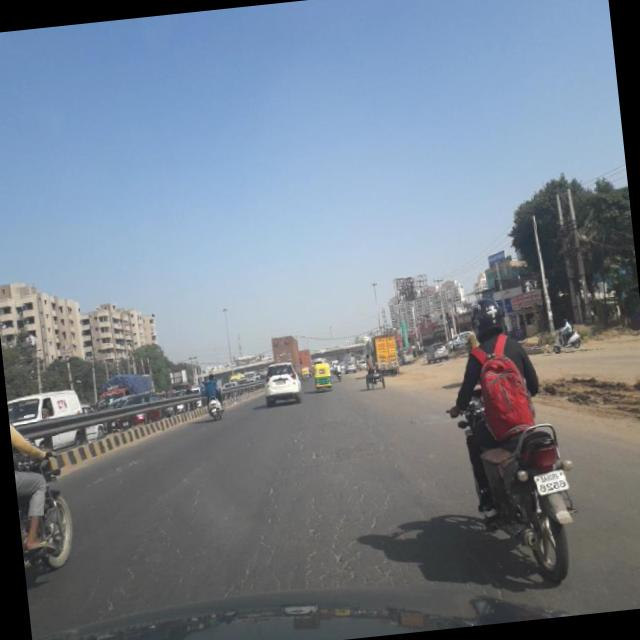crack: (212, 398, 440, 605), (83, 469, 225, 622)
